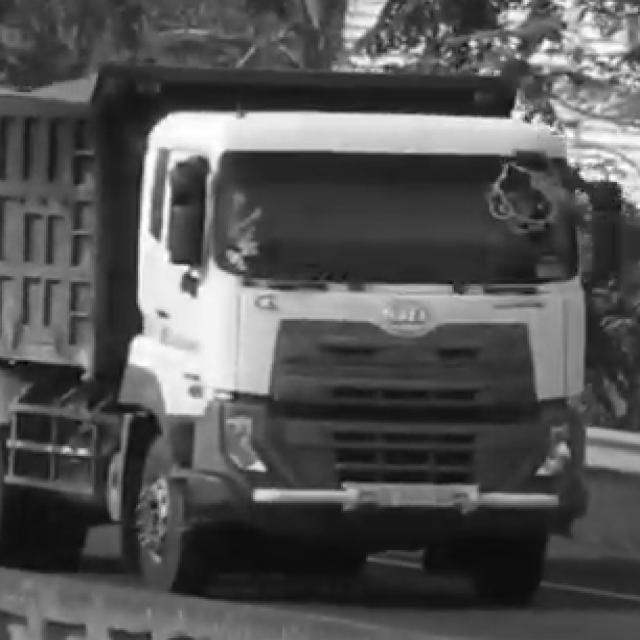Truck: (24, 39, 612, 604)
